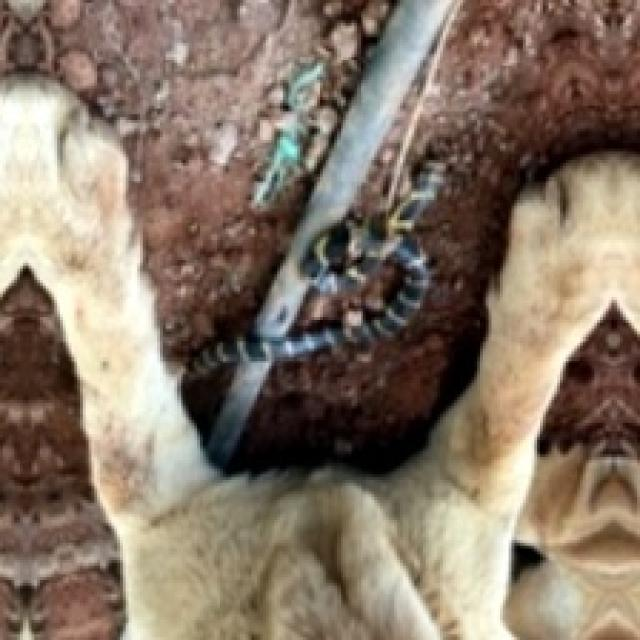king cobra: (0, 0, 637, 637), (0, 77, 637, 637), (509, 403, 637, 637)
